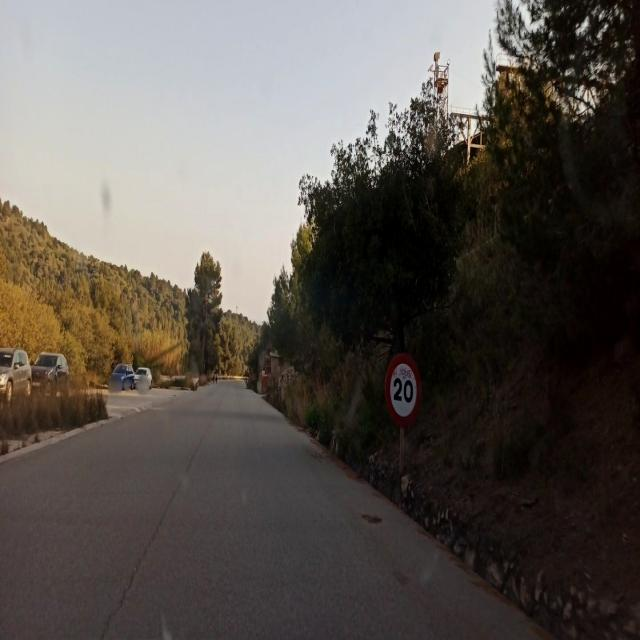car: (0, 347, 32, 405), (31, 352, 69, 386), (111, 362, 135, 378), (134, 366, 152, 385)
